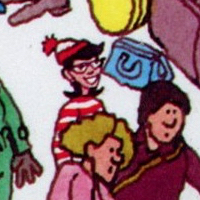wenda: (59, 33, 104, 103)
